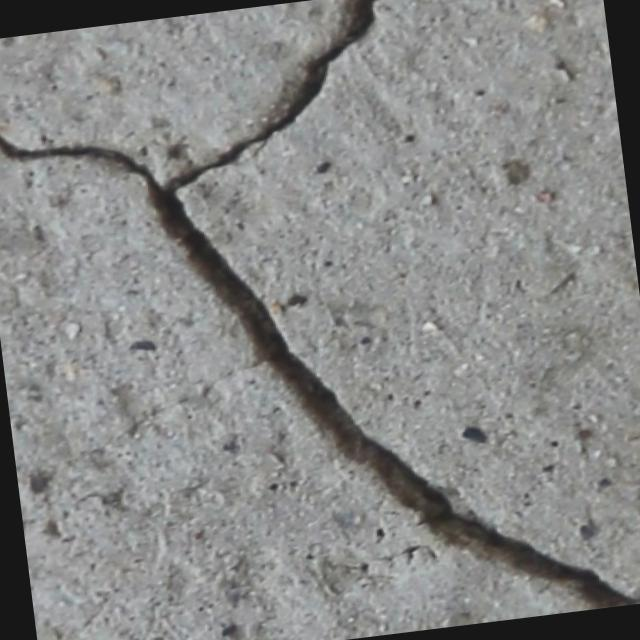crack: (148, 146, 640, 640), (123, 0, 405, 203), (0, 100, 158, 211)
